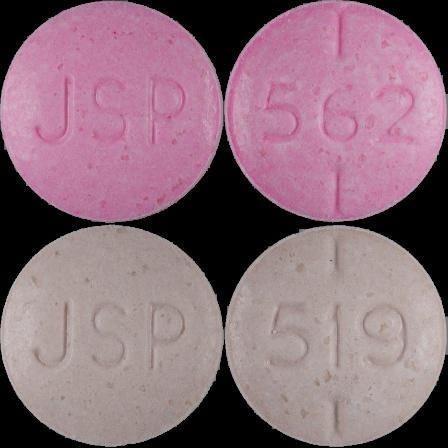0527-1346: (0, 0, 224, 224)
